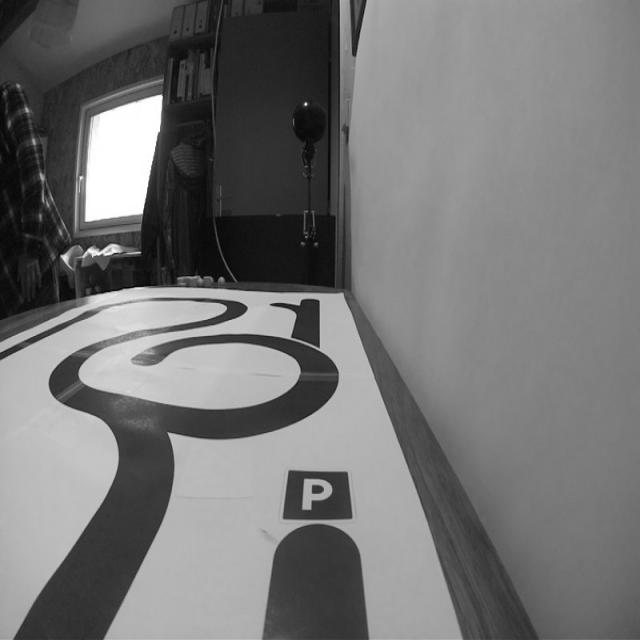Parking: (277, 458, 358, 528)
lineStraight: (253, 542, 379, 640)
